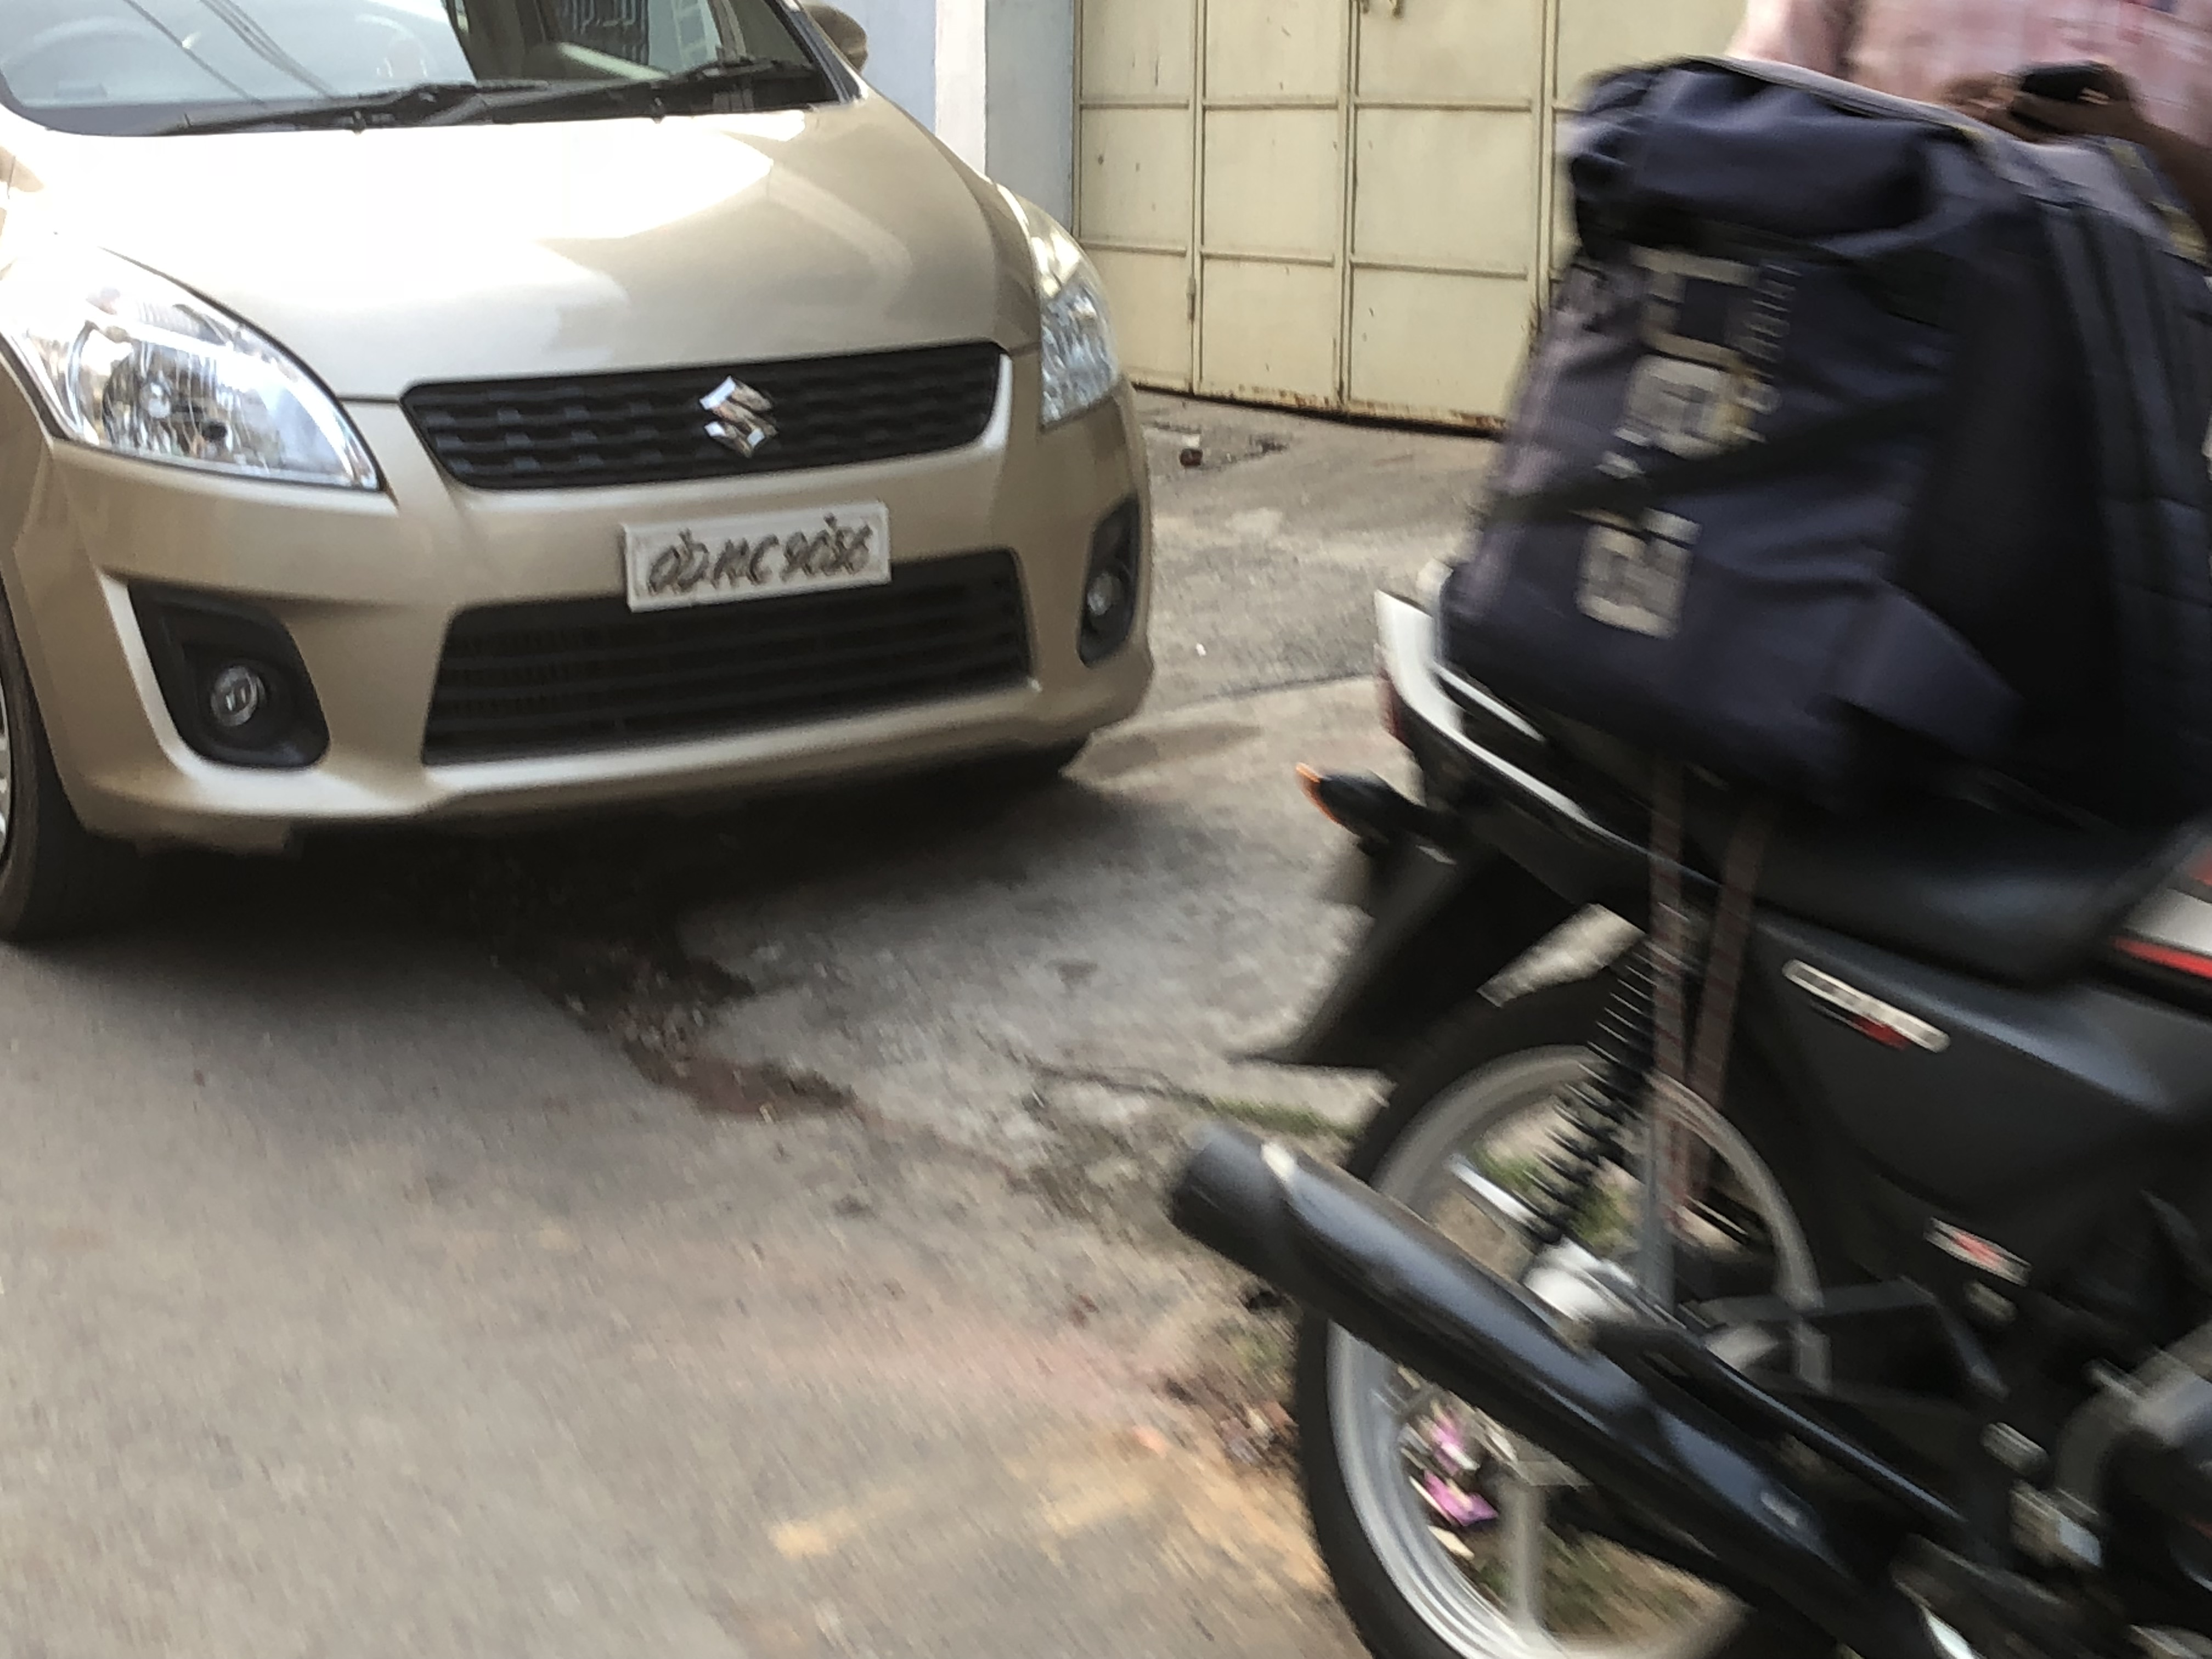licenseplate: (613, 511, 915, 612)
